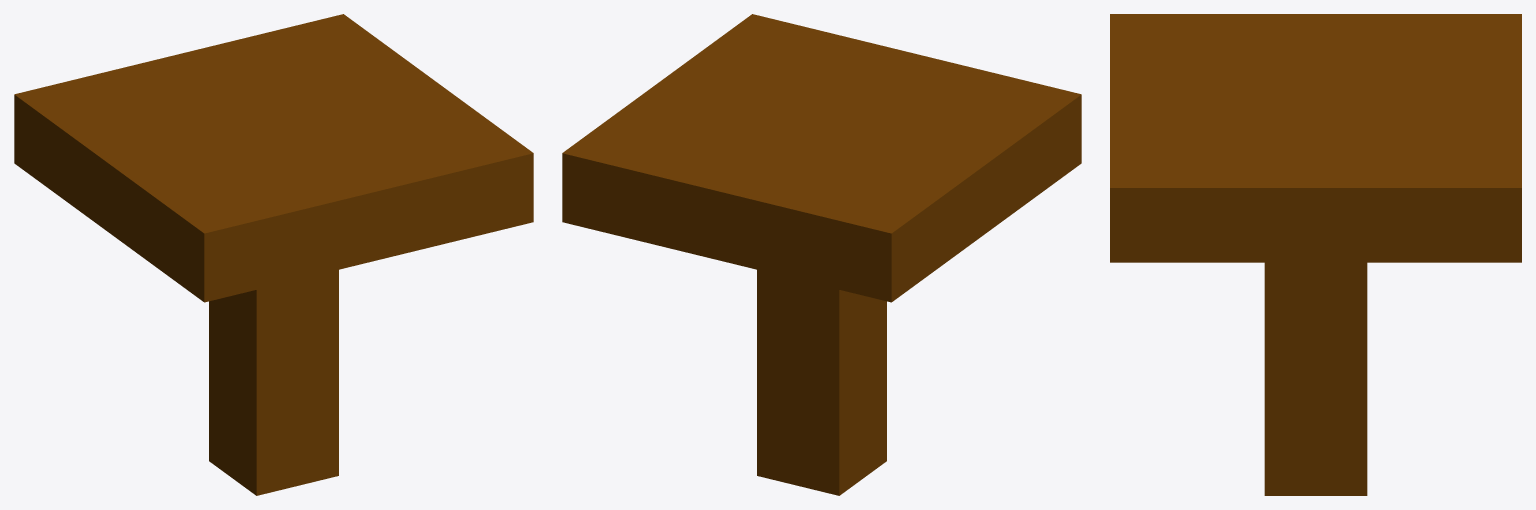
Rendered from table.glb.
The picture shows the model from 3 angles, left to right: view 1: azimuth 30°, elevation 25°; view 2: azimuth 150°, elevation 25°; view 3: azimuth 270°, elevation 25°; orthographic projection. The views are drawn at different scales.
Parts seen in each view (by area): view 1: table; view 2: table; view 3: table.
Boxes of the visible parts, x1=… form: table: x1=14, y1=14, x2=533, y2=495; table: x1=562, y1=14, x2=1081, y2=495; table: x1=1110, y1=14, x2=1521, y2=495.
Size of the model in its own units: 1 by 1 by 1.
